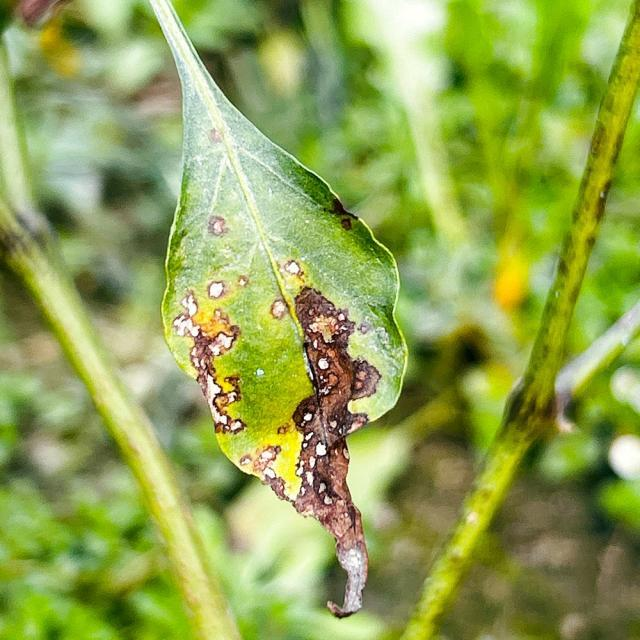Bercak Daun Serkospora: (158, 4, 412, 632)
